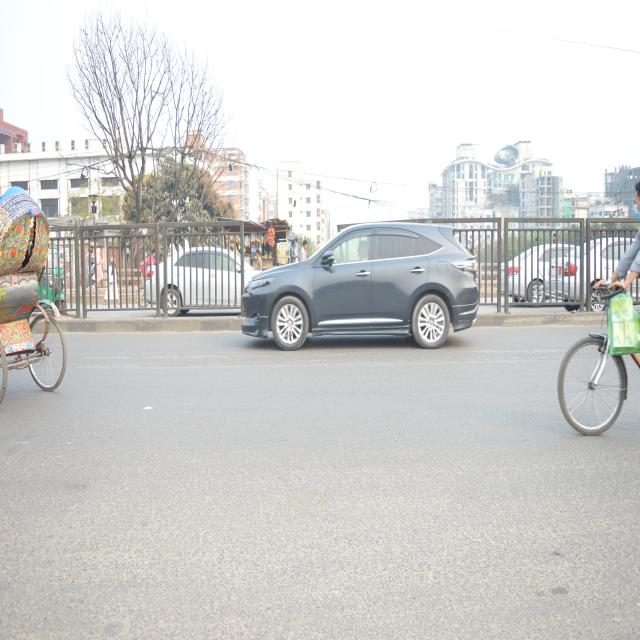car: (230, 203, 498, 375)
